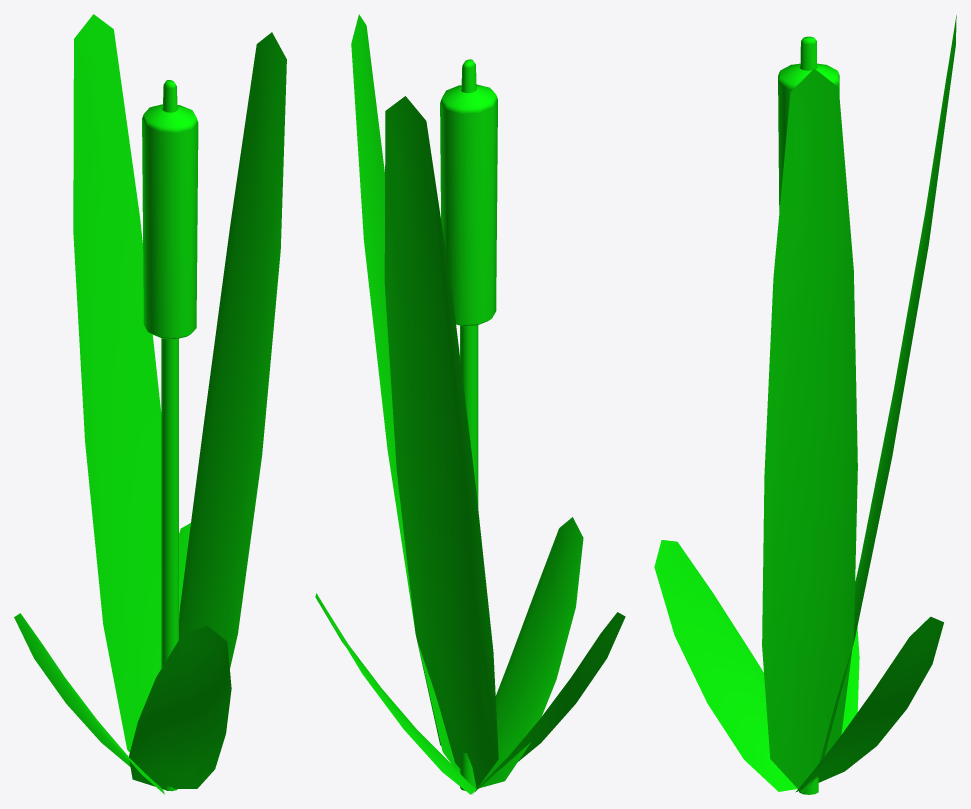
The model's file is Cattail_2.fbx.
3 views of the same model, side by side, from view 1: azimuth 30°, elevation 25°; view 2: azimuth 150°, elevation 25°; view 3: azimuth 270°, elevation 25° (orthographic). The views are drawn at different scales.
Visible parts, largest first — view 1: Cattail_2; view 2: Cattail_2; view 3: Cattail_2.
Part boxes in pixels (bbox=[...]): Cattail_2: bbox=[14, 14, 286, 794]; Cattail_2: bbox=[315, 14, 625, 794]; Cattail_2: bbox=[654, 15, 956, 794].
Bounding box in the file's own units: 119 × 325 × 115.
